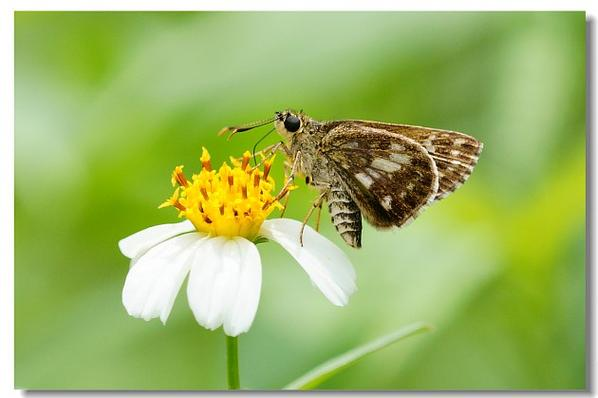Hesperiidae: (218, 102, 485, 252)
